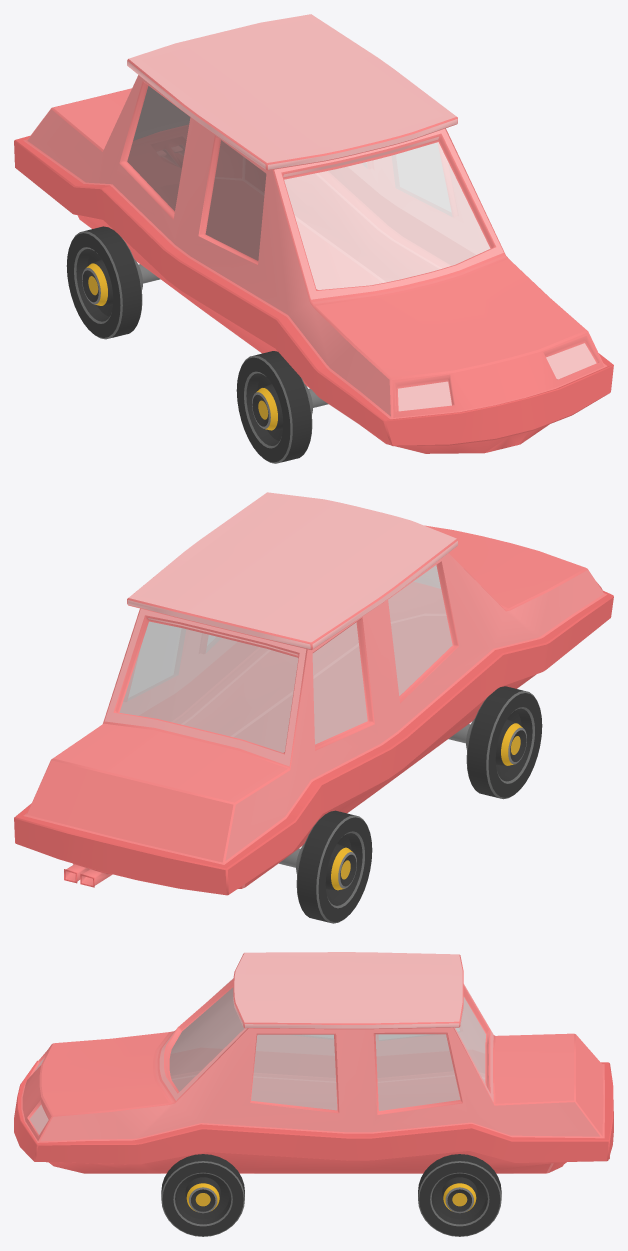
The model's file is lowpolycar-small.glb.
3 views of the same model, one above another, from view 1: azimuth 30°, elevation 25°; view 2: azimuth 150°, elevation 25°; view 3: azimuth 270°, elevation 25° (orthographic). The views are drawn at different scales.
Parts seen in each view (by area): view 1: Auto, Räder; view 2: Auto, Räder; view 3: Auto, Räder.
Part boxes in pixels (x1,y1,x2,y2): Auto: (14,14,613,453); Räder: (66,226,328,463); Auto: (14,492,613,895); Räder: (279,686,542,923); Auto: (14,952,613,1173); Räder: (161,1154,501,1236).
Size of the model in its own units: 4.93 by 4.95 by 13.17.
Materials: 3 (2 with a texture image).
